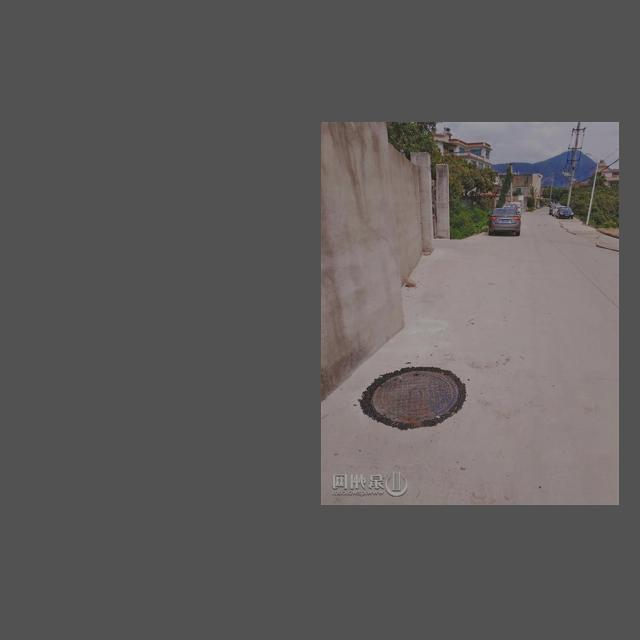good: (346, 357, 482, 436)
